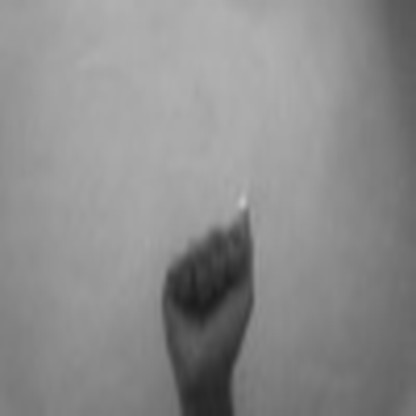a: (154, 187, 264, 379)
